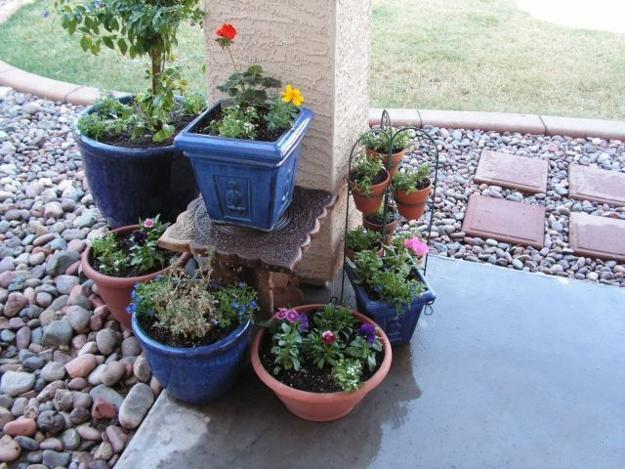container: (242, 300, 399, 436), (122, 276, 258, 416), (183, 95, 313, 237), (76, 224, 193, 329), (347, 159, 392, 215), (393, 167, 430, 226)
vegetation: (277, 307, 387, 389), (139, 276, 247, 330), (216, 73, 293, 136), (356, 232, 423, 300)
